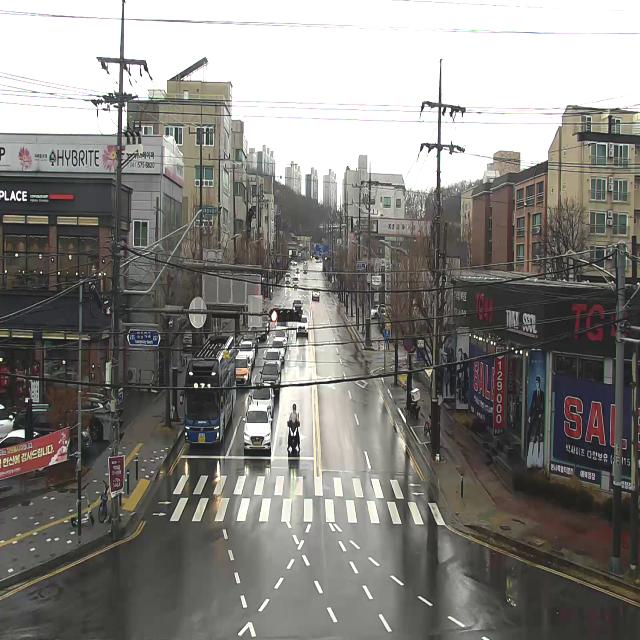Bus: (180, 336, 237, 446), (295, 268, 300, 277)
Car: (12, 412, 92, 460), (0, 429, 45, 478), (74, 392, 110, 442), (242, 401, 272, 449), (249, 383, 275, 418), (259, 362, 280, 391), (235, 354, 252, 386), (263, 349, 282, 373), (237, 342, 255, 364), (272, 338, 285, 362), (243, 332, 258, 352), (296, 314, 309, 337), (273, 331, 288, 348), (372, 304, 386, 319), (274, 322, 288, 337), (183, 330, 192, 347), (262, 315, 270, 332), (254, 328, 267, 338), (292, 300, 303, 310), (312, 290, 320, 302), (284, 273, 290, 284), (292, 278, 299, 286), (290, 261, 298, 265)
Motorcycle: (287, 404, 300, 451)
Truck: (303, 261, 308, 274)
